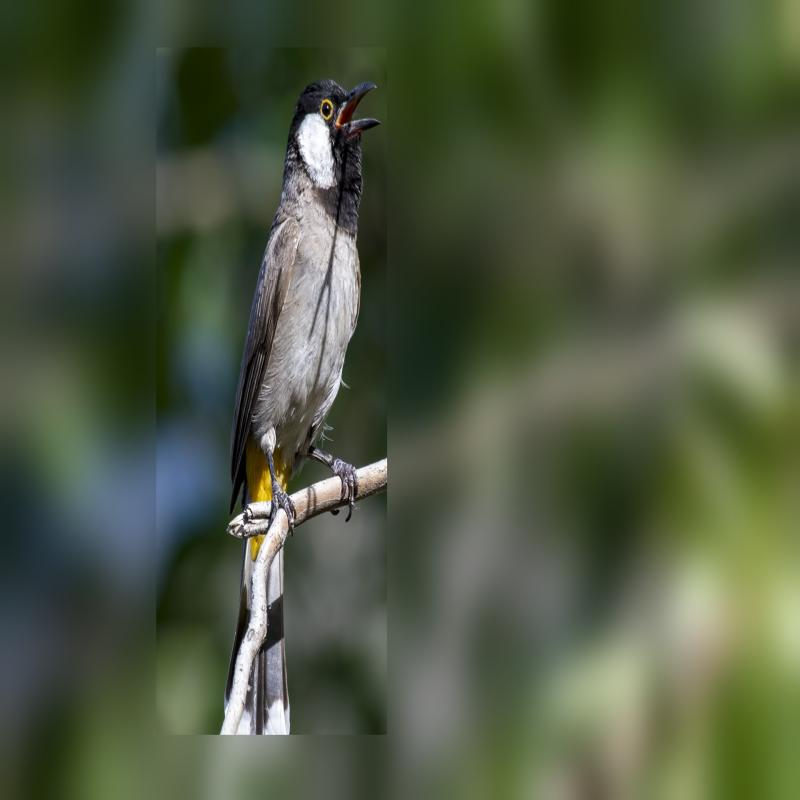white-eared bulbul: (220, 65, 396, 728)
